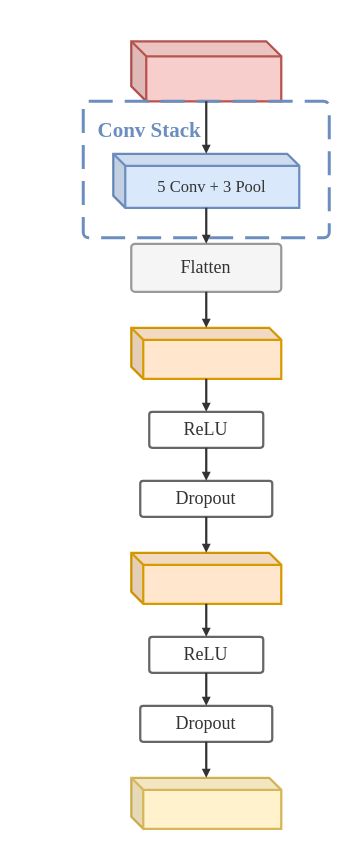
Some shapes in this 362 by 861 pixel diagram are drawn without their labels. The centre of each missing label's shape, as x and y in pixels:
FC1: the point at 205,352
FC2: the point at 205,577
Input 224x224x3: the point at 205,70
Output 1000: the point at 205,802
